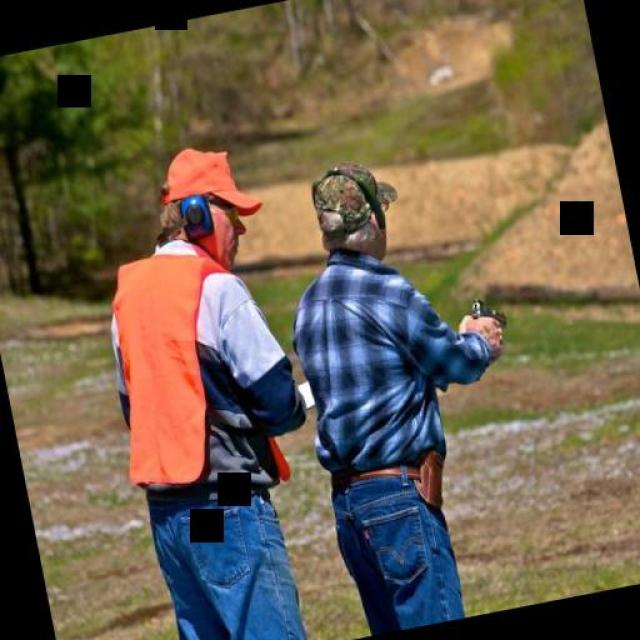gun: (454, 285, 508, 336)
